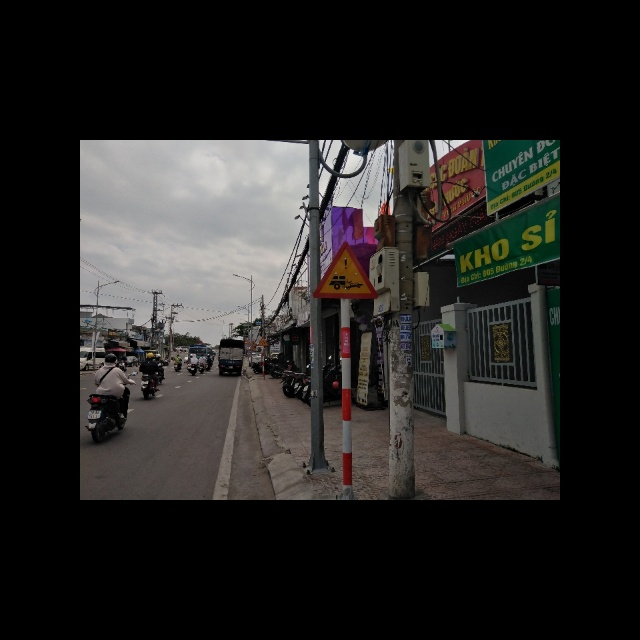Đoạn đường hay xảy ra tai nạn: (314, 241, 378, 299)
Đường đôi: (256, 335, 269, 347)
